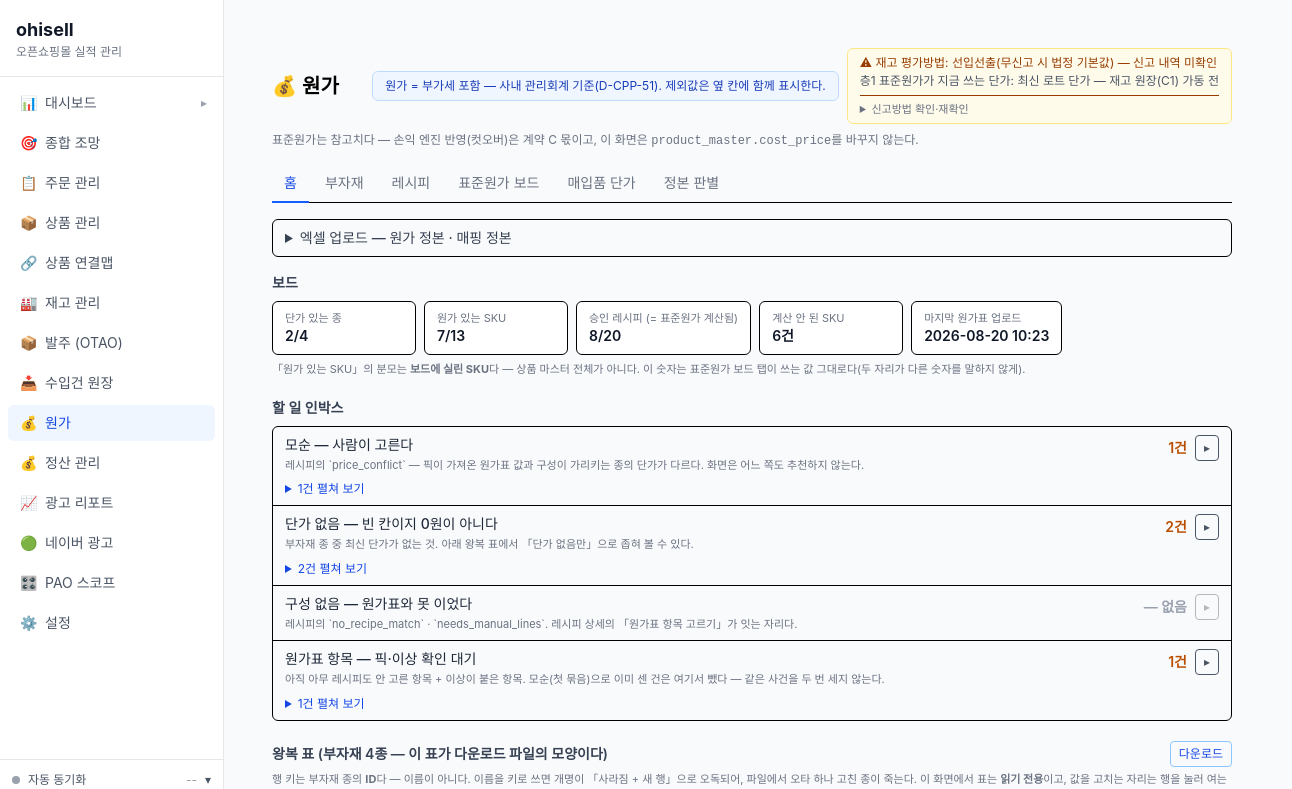
H4c: 묶음 머리 ▸ — 「단가 없음」은 왕복 표를 좁히고, 레시피 계열은 레시피 탭으로 (변이 방어 M2) › 「단가 없음」 묶음의 ▸를 누르면 홈에 머문 채 왕복 표가 단가 없음만으로 좁혀진다
Expected: the heading "💰 원가" is shown, [272,72,339,100]
Expected: the element with test id "cost-home-board-strip" is shown, [272,274,1062,376]
Click the button with test id "inbox-goto-no-price" at x=1207, y=527, box [1195,514,1219,540]
(page scrolled)
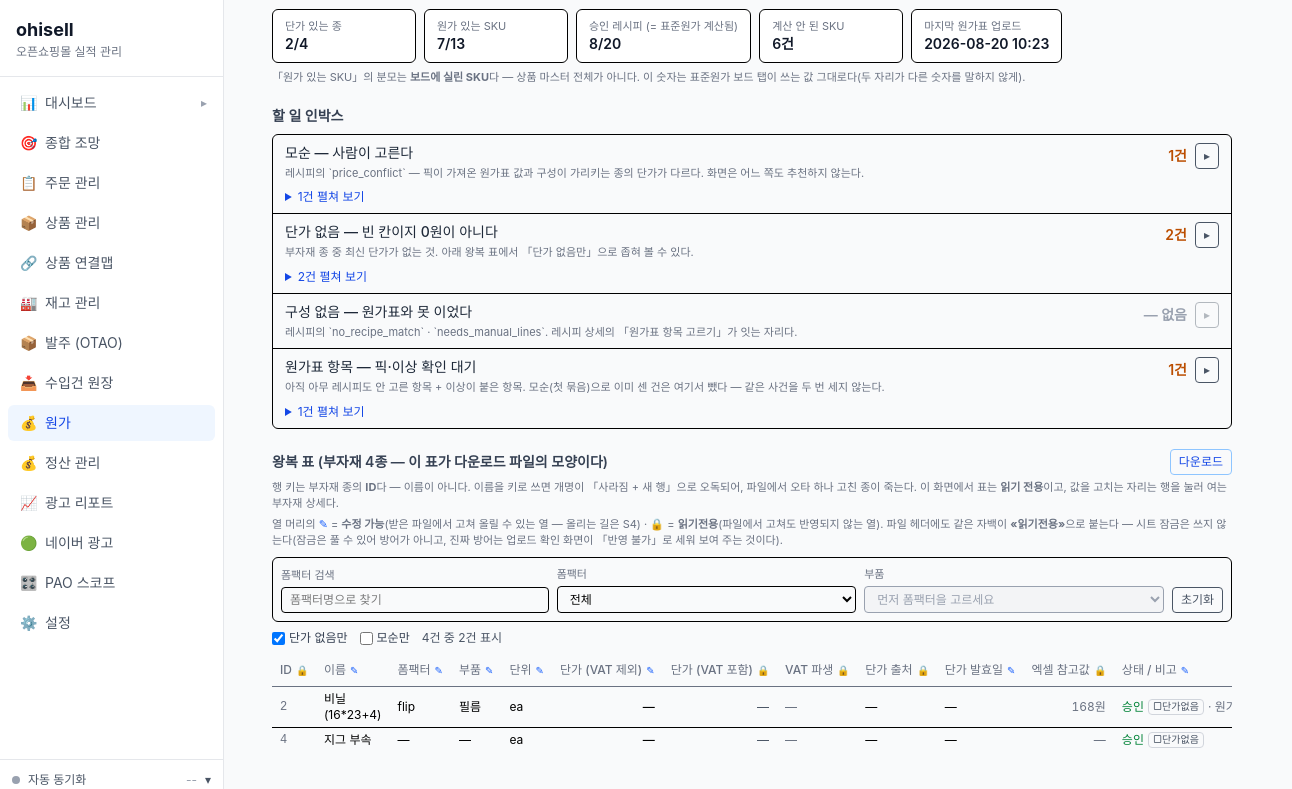
Expected: the element with test id "cost-home-roundtrip" is shown, [272,449,1232,752]
Expected: the checkbox with test id "roundtrip-filter-no-price" is checked, [272,632,285,645]
